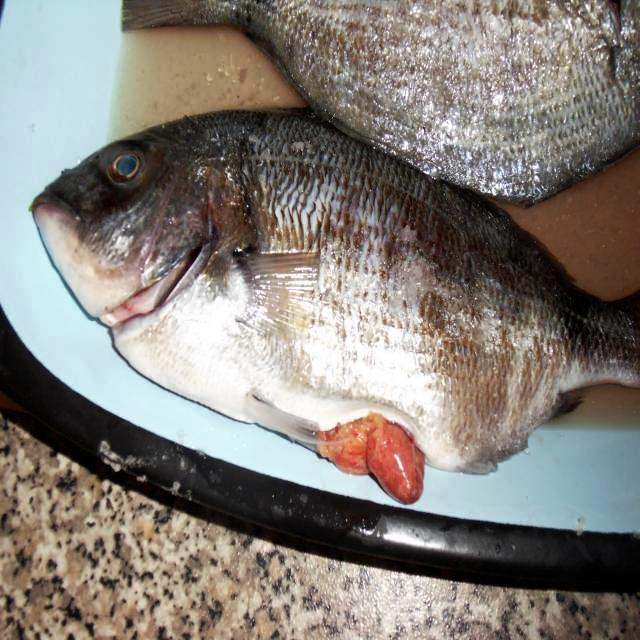Epizootic Ulcerative Syndrome -EUS-: (33, 110, 639, 504)
